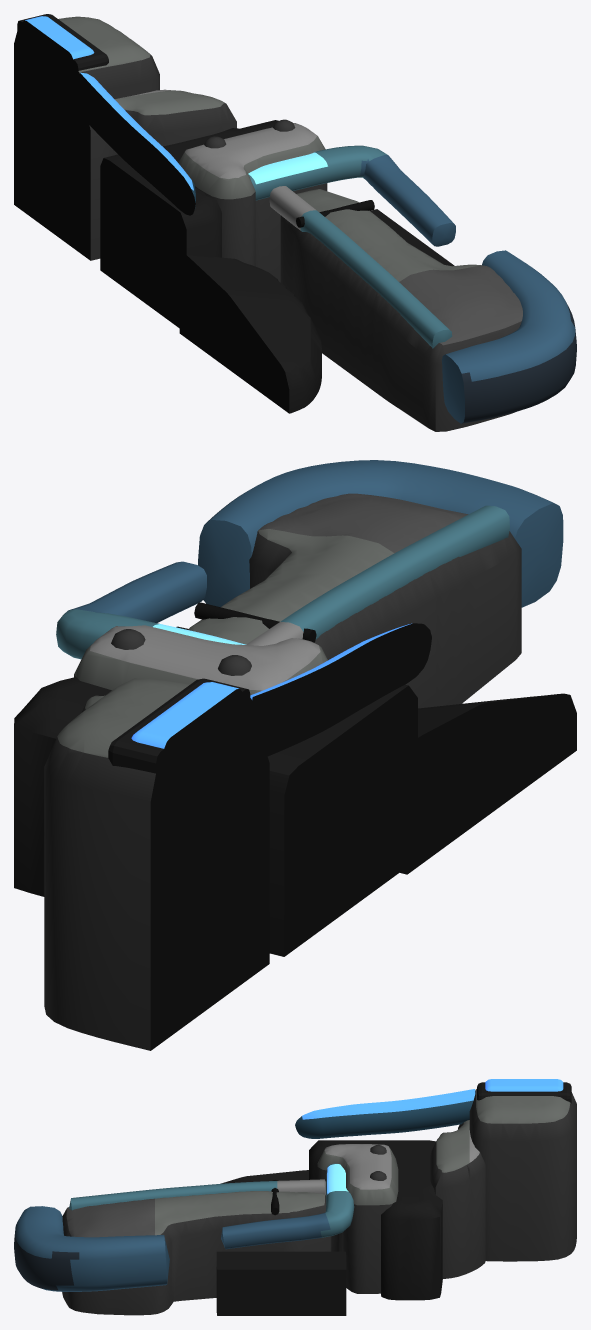
File: grabber_right.glb
The picture shows the model from 3 angles, top to bottom: view 1: azimuth 30°, elevation 25°; view 2: azimuth 150°, elevation 25°; view 3: azimuth 270°, elevation 25°; orthographic projection. The views are drawn at different scales.
Parts seen in each view (by area): view 1: leg.002, neck.001, keel.001, beam.001, shoe.002, shoulder.002, collar.001, bracket.002, bar.001, strip.002, window.001, window_frame.001 (+1 smaller); view 2: neck.001, beam.001, leg.002, shoe.002, keel.001, bar.001, shoulder.002, strip.002, bracket.002, collar.001, window.001, window_frame.001 (+1 smaller); view 3: neck.001, leg.002, shoe.002, beam.001, web.002, shoulder.002, collar.001, bar.001, bracket.002, strip.002, window.001, window_frame.001 (+1 smaller).
Boxes of the visible parts, x1,y1,x2,y2 form: leg.002: (280, 189, 522, 431); neck.001: (14, 16, 159, 253); keel.001: (179, 255, 321, 413); beam.001: (100, 120, 278, 333); shoe.002: (441, 250, 576, 423); shoulder.002: (178, 123, 327, 282); collar.001: (70, 89, 236, 260); bracket.002: (248, 145, 455, 246); bar.001: (75, 72, 195, 215); strip.002: (269, 186, 452, 348); window.001: (22, 16, 94, 74); window_frame.001: (17, 14, 108, 88); neck.001: (44, 678, 256, 1050); beam.001: (14, 677, 417, 956); leg.002: (188, 493, 521, 708); shoe.002: (198, 460, 563, 607); keel.001: (400, 693, 576, 874); bar.001: (246, 623, 431, 764); shoulder.002: (74, 625, 327, 695); strip.002: (246, 505, 509, 645); bracket.002: (56, 561, 246, 659); collar.001: (82, 695, 269, 986); window.001: (131, 682, 242, 772); window_frame.001: (108, 678, 250, 793); neck.001: (469, 1089, 576, 1261); leg.002: (62, 1191, 331, 1315); shoe.002: (14, 1206, 169, 1291); beam.001: (309, 1140, 442, 1300); web.002: (216, 1251, 346, 1315); shoulder.002: (317, 1144, 398, 1293); collar.001: (430, 1120, 485, 1278); bar.001: (295, 1089, 475, 1138); bracket.002: (221, 1163, 354, 1249); strip.002: (69, 1179, 326, 1210); window.001: (485, 1079, 563, 1091); window_frame.001: (477, 1082, 571, 1103).
Bounding box in the file's own units: 10.1 × 8.08 × 26.48.
